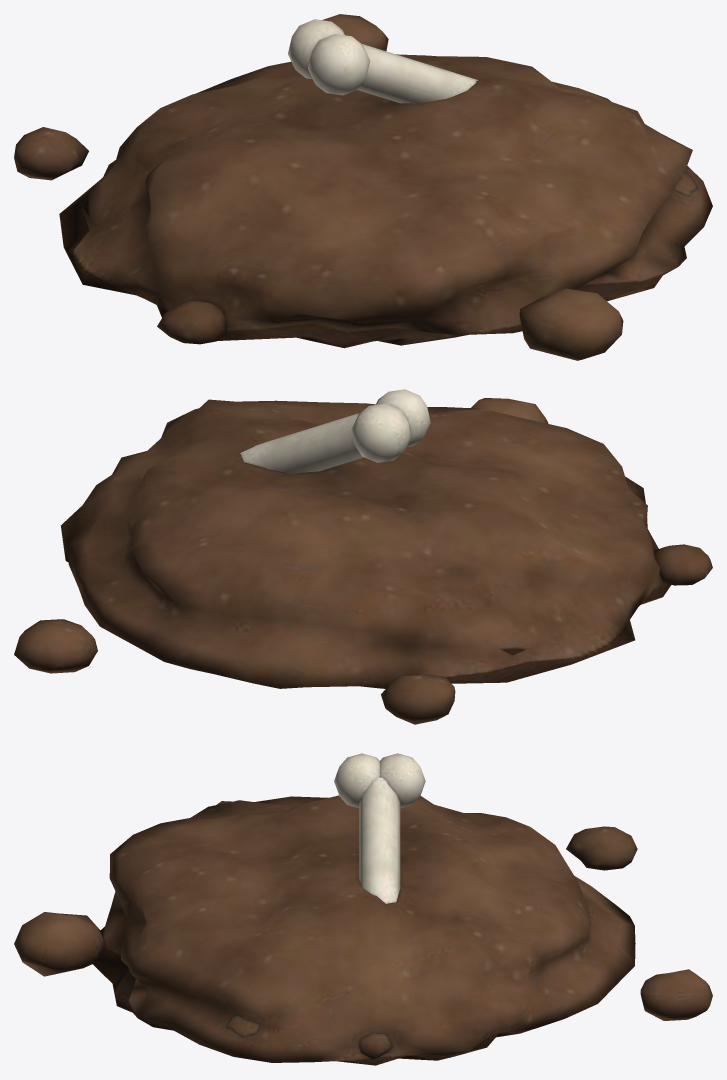
The model's file is dig_mound.glb.
3 views of the same model, one above another, from view 1: azimuth 30°, elevation 25°; view 2: azimuth 150°, elevation 25°; view 3: azimuth 270°, elevation 25° (orthographic). The views are drawn at different scales.
Visible parts, largest first — view 1: dig_mound; view 2: dig_mound; view 3: dig_mound.
Part boxes in pixels (x1,y1,x2,y2): dig_mound: (14,14,712,360); dig_mound: (14,389,712,724); dig_mound: (14,753,712,1065).
Bounding box in the file's own units: 1.15 × 0.399 × 1.37.
Materials: 1 (1 with a texture image).
